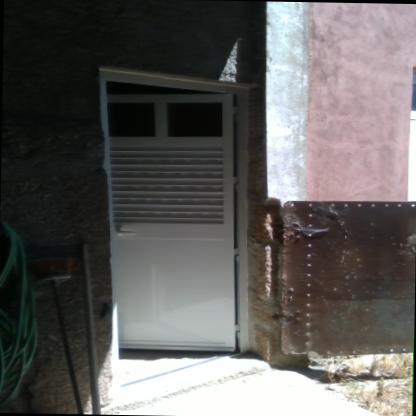semi: (82, 46, 266, 374)
